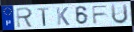6: (74, 5, 90, 26)
F: (91, 5, 110, 26)
K: (56, 7, 71, 27)
R: (16, 7, 35, 28)
T: (37, 7, 50, 27)
U: (110, 3, 129, 25)
